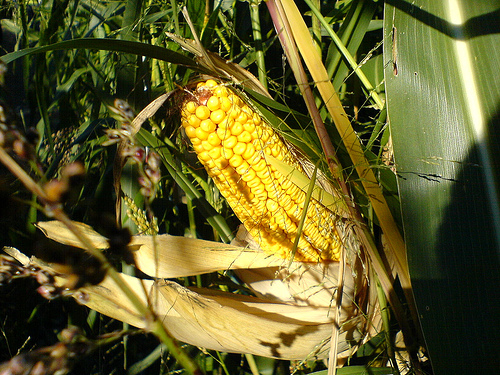corn: (185, 78, 355, 277)
